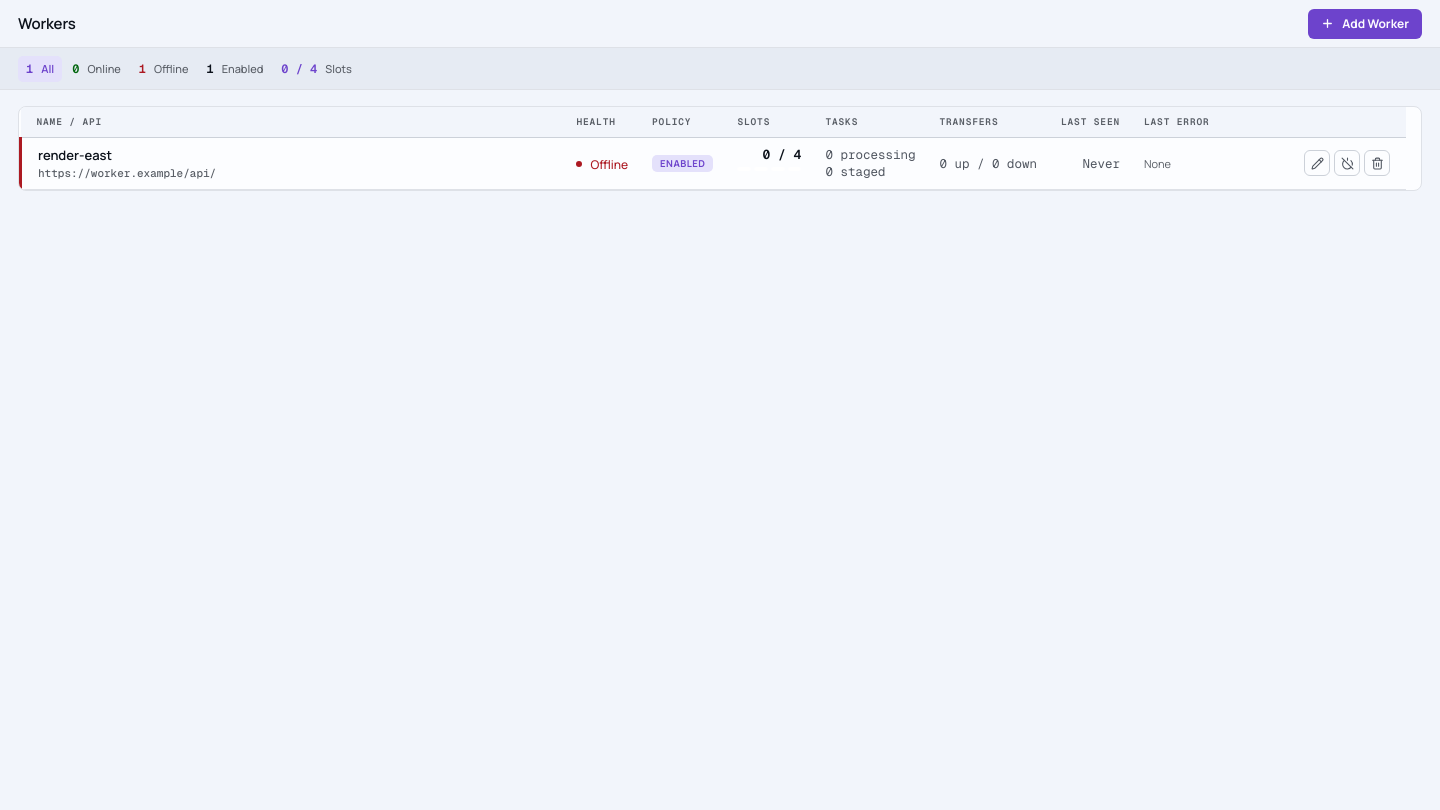
it: Workers page › focuses Add Worker after a successful deletion removes the invoking row
The width and height of the screenshot is (1440, 810).
What coordinates should you click on to do the following:
click the button named "Delete render-east"
I would click on:
 (1377, 163)
Its box is [1364,150,1390,176].
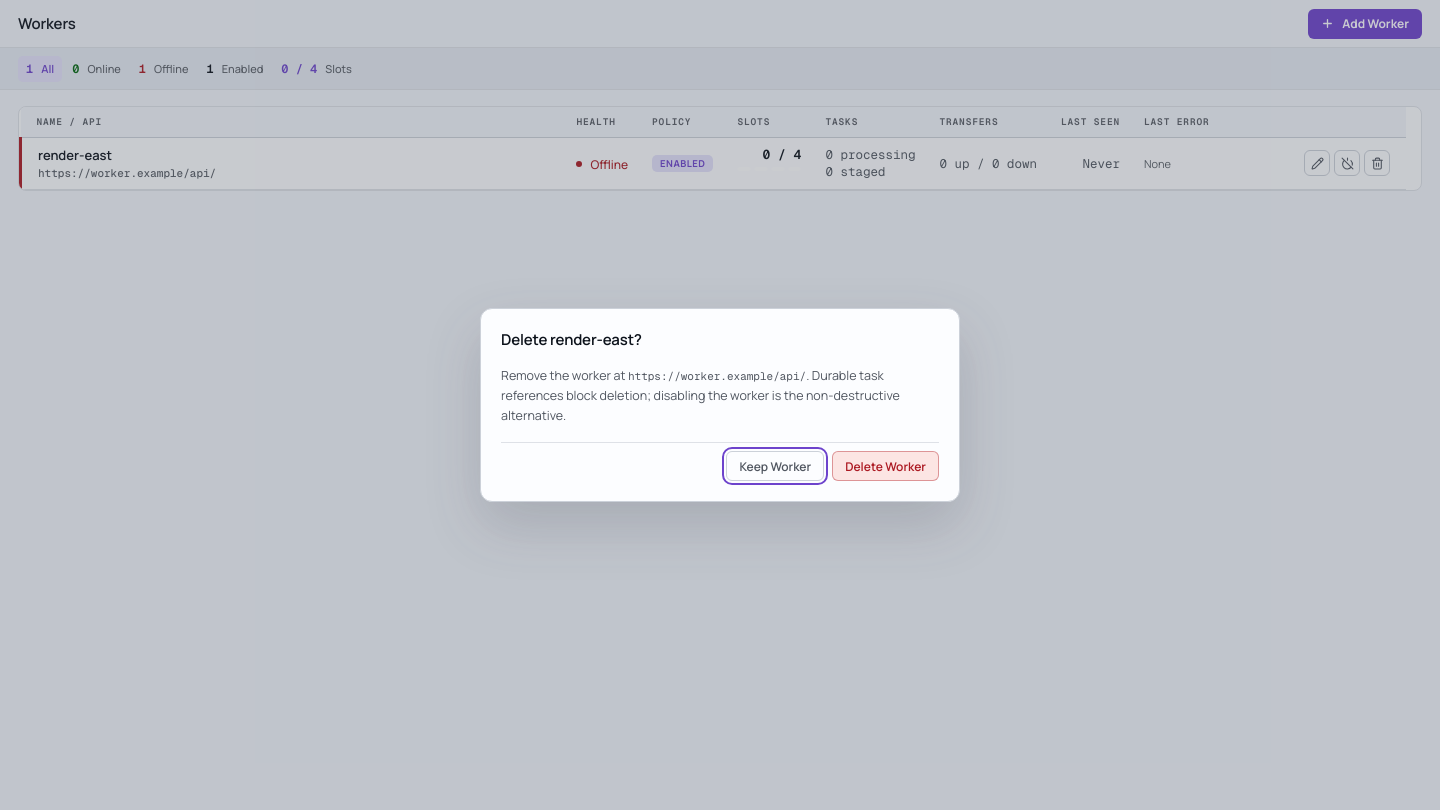
// deletion succeeds.
What coordinates should you click on to do the following:
click the button "Delete Worker"
I would click on:
 (886, 466)
Its box is [832,451,939,481].
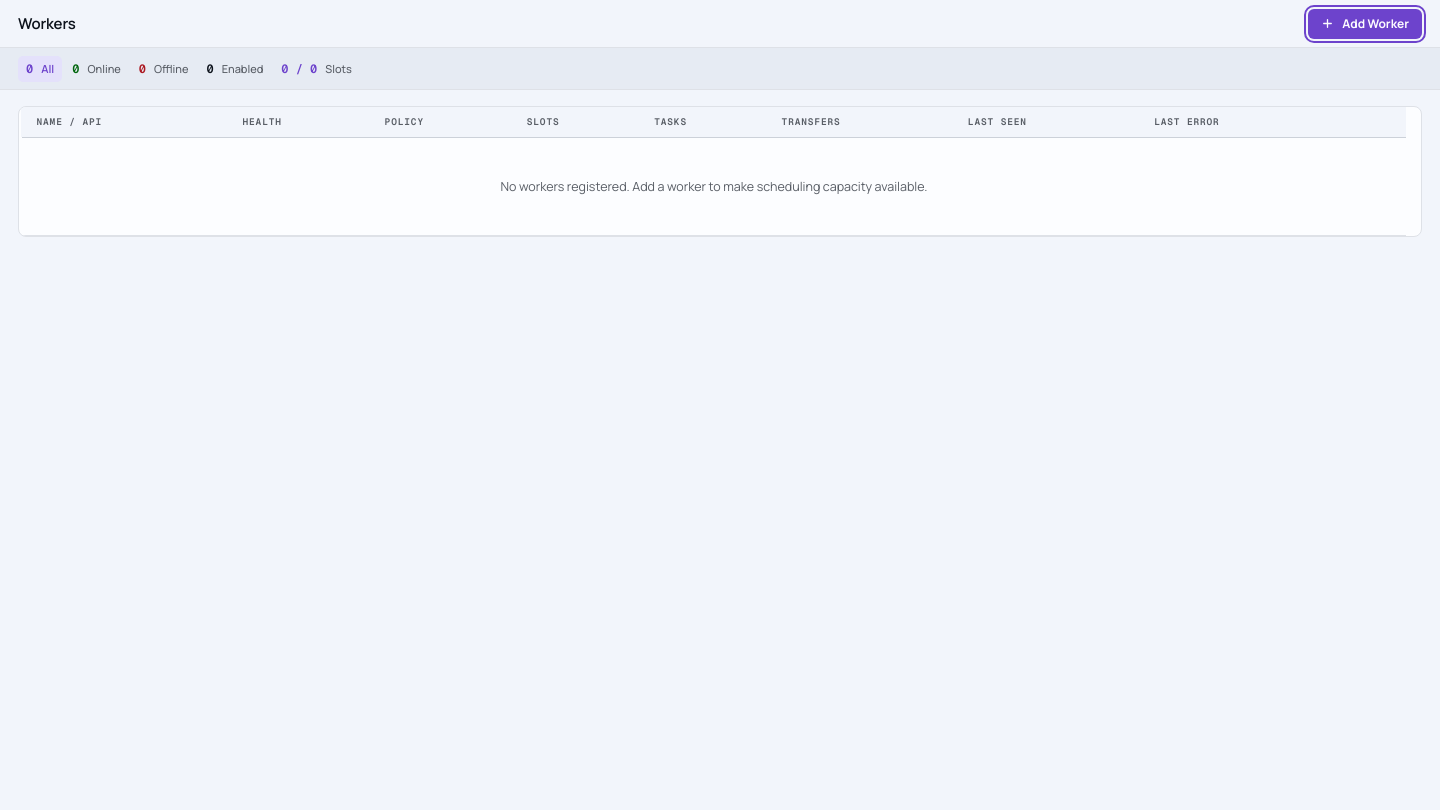
expect the text "No workers registered. Add a worker to make scheduling capacity available." is shown: met, box [20,137,1406,235]
